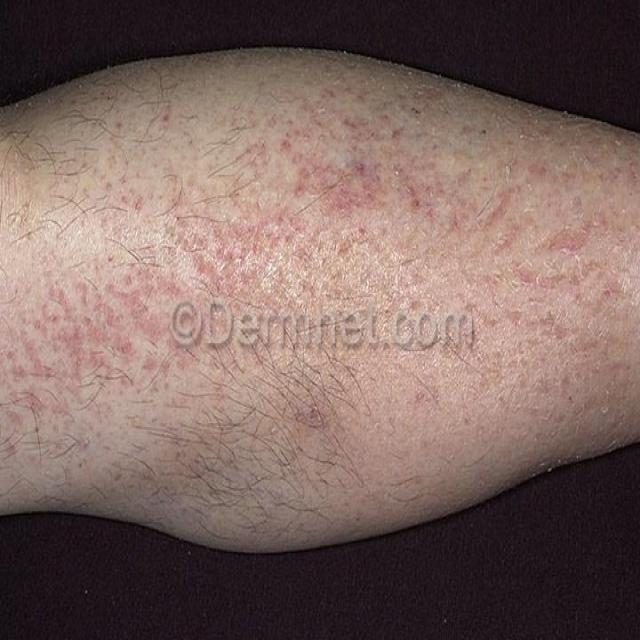Eczema: (0, 132, 579, 458)
